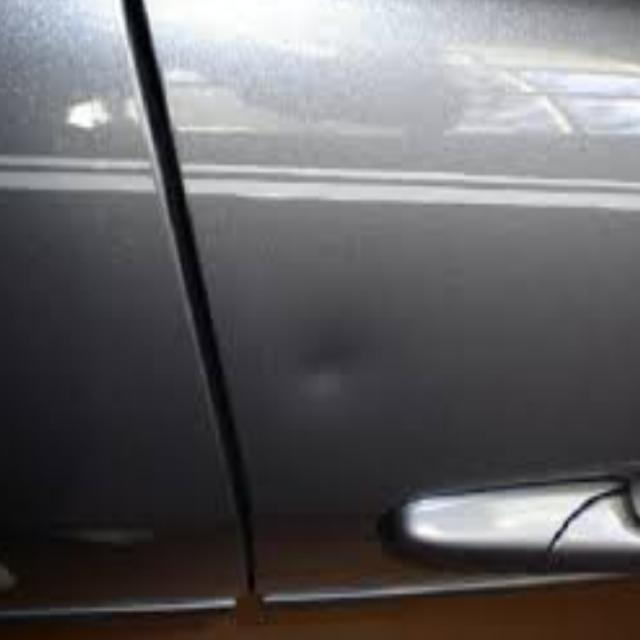dents: (294, 329, 364, 417)
